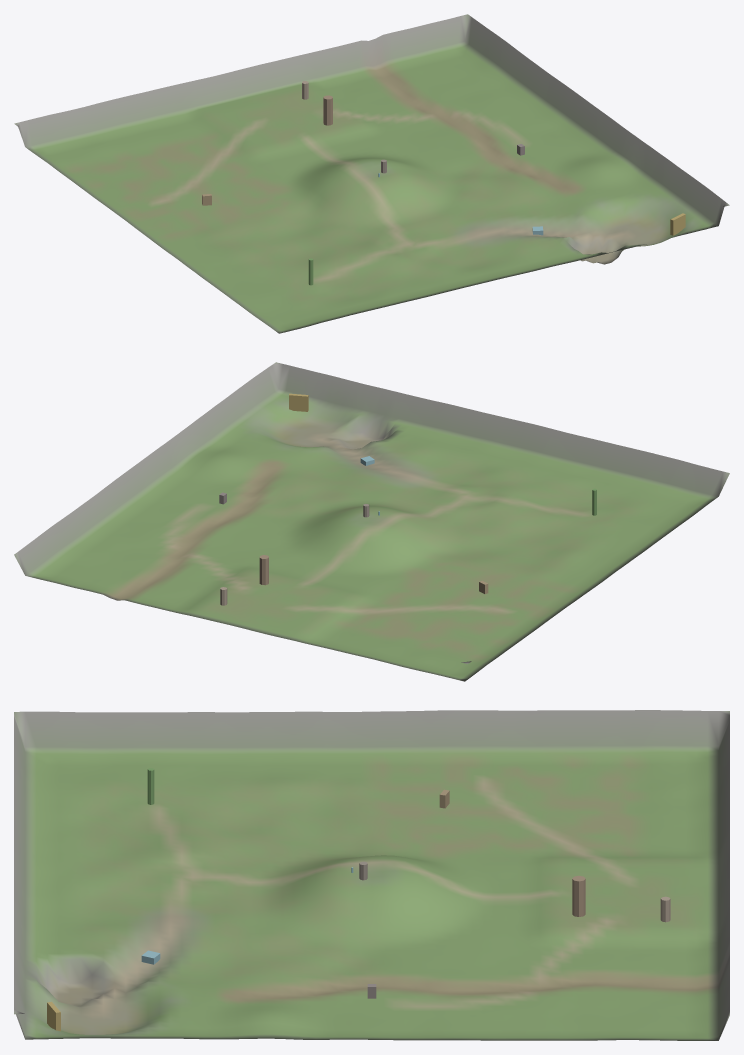
The model's file is horizon.glb.
The picture shows the model from 3 angles, top to bottom: view 1: azimuth 30°, elevation 25°; view 2: azimuth 150°, elevation 25°; view 3: azimuth 270°, elevation 25°; orthographic projection. The views are drawn at different scales.
Parts seen in each view (by area): view 1: horizon_terrain, horizon_landmarks; view 2: horizon_terrain, horizon_landmarks; view 3: horizon_terrain, horizon_landmarks.
Boxes of the visible parts, left/top/right/bottom form: horizon_terrain: left=14, top=14, right=729, bottom=333; horizon_landmarks: left=202, top=81, right=685, bottom=285; horizon_terrain: left=14, top=362, right=729, bottom=681; horizon_landmarks: left=219, top=393, right=596, bottom=605; horizon_terrain: left=14, top=710, right=729, bottom=1040; horizon_landmarks: left=47, top=768, right=670, bottom=1031.
Bounding box in the file's own units: 512 × 48.18 × 512.
